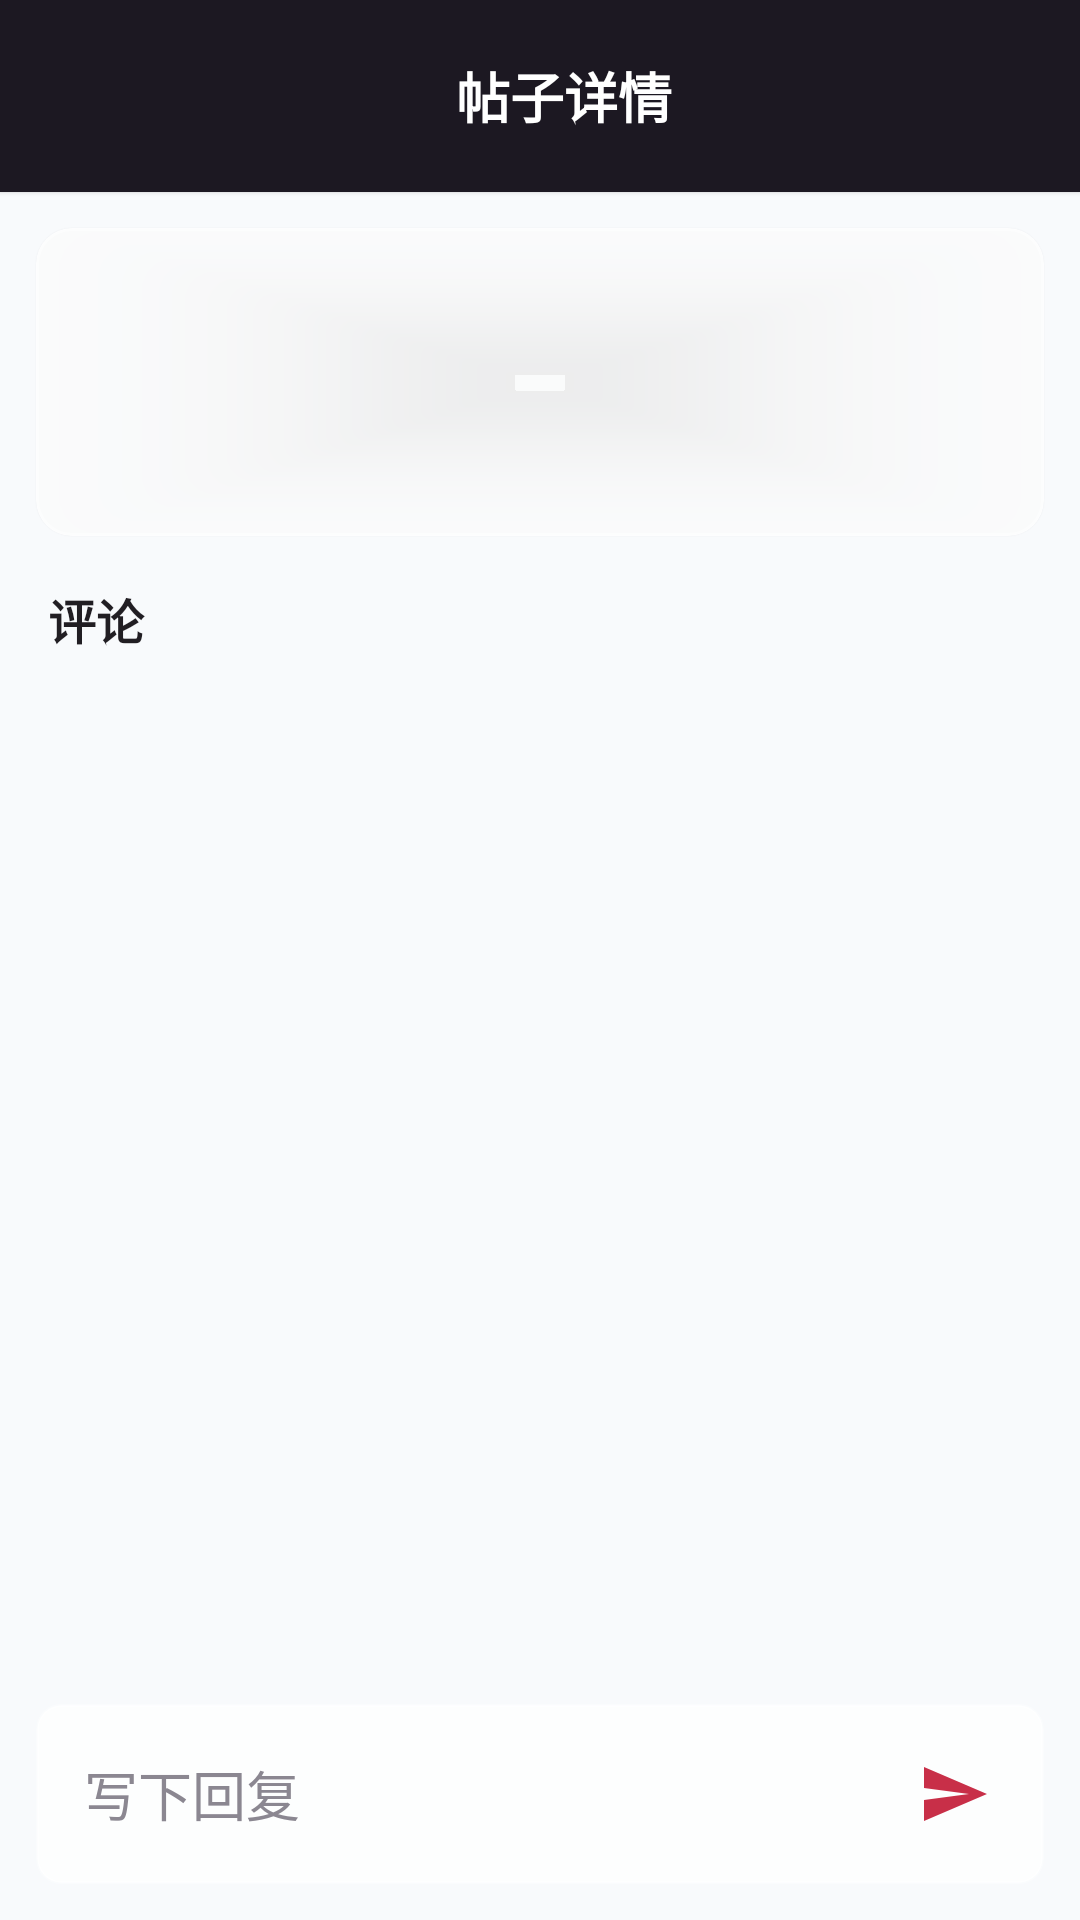

Icon bounding boxes for this 1080w x 1920h phone screenshot, format [x1=x1, y1=y1, x2=x2, y2=y2]:
发送回复: [x1=924, y1=1767, x2=987, y2=1821]
